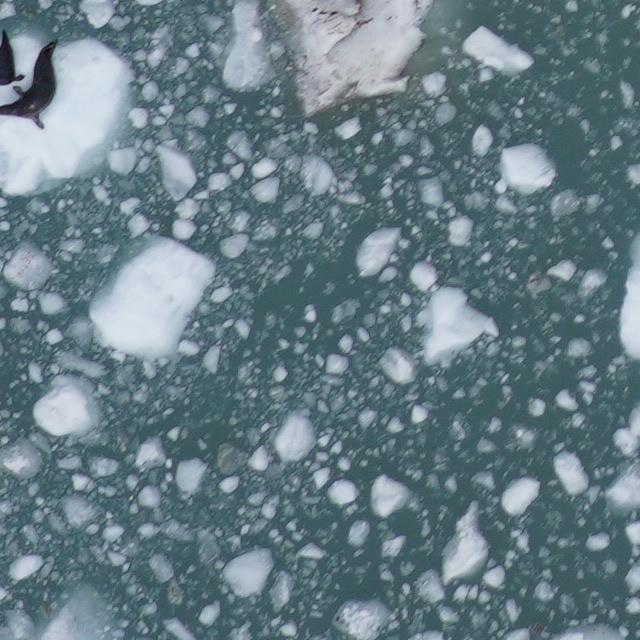seal: (0, 36, 64, 134)
